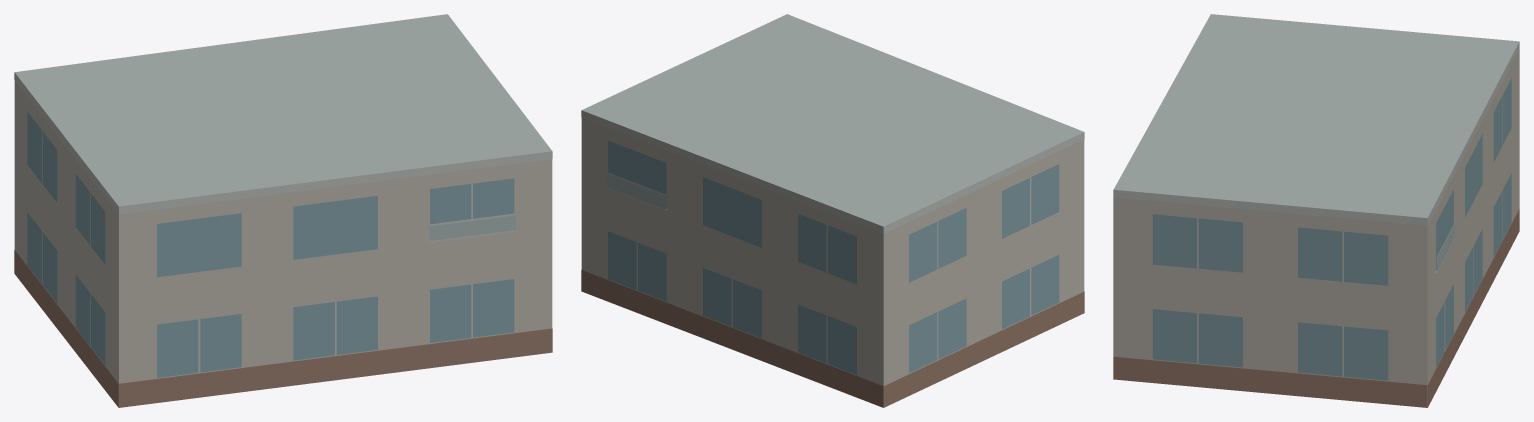
The model's file is survey-upis-32535417.glb.
3 renders of one model, left to right at view 1: azimuth 30°, elevation 25°; view 2: azimuth 150°, elevation 25°; view 3: azimuth 270°, elevation 25°, orthographic. The views are drawn at different scales.
Parts seen in each view (by area): view 1: survey-upis-32535417.tmp; view 2: survey-upis-32535417.tmp; view 3: survey-upis-32535417.tmp.
Boxes of the visible parts, box(x1,y1,x2,y2) form: survey-upis-32535417.tmp: box(14, 14, 552, 407); survey-upis-32535417.tmp: box(581, 14, 1084, 407); survey-upis-32535417.tmp: box(1113, 14, 1519, 407).
Size of the model in its own units: 14.09 by 6.1 by 11.85.
